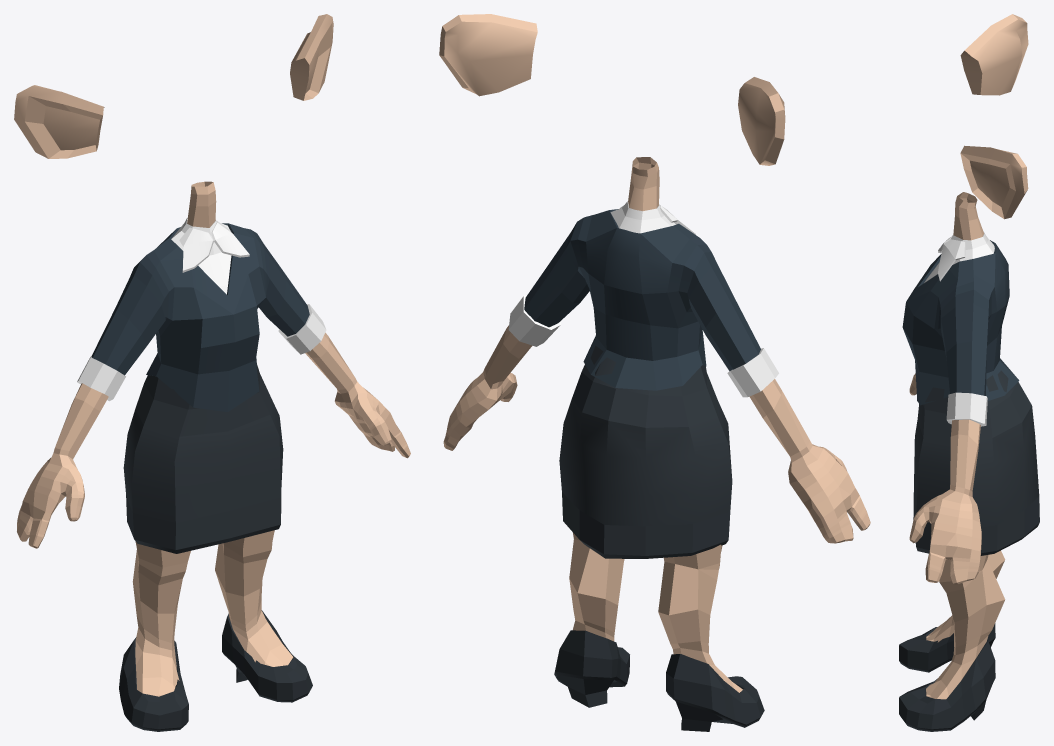
The model's file is Cuerpo_Mujer.fbx.
The picture shows the model from 3 angles, left to right: view 1: azimuth 30°, elevation 25°; view 2: azimuth 150°, elevation 25°; view 3: azimuth 270°, elevation 25°; orthographic projection. The views are drawn at different scales.
Parts seen in each view (by area): view 1: Body, Falda, Sweter, Orejas1, Zapatillas, Mangas, Cuello_Camisa, Camisa; view 2: Falda, Sweter, Body, Orejas1, Zapatillas, Mangas, Camisa; view 3: Body, Falda, Sweter, Orejas1, Zapatillas, Mangas, Camisa, Cuello_Camisa.
Boxes of the visible parts, bbox=[...] form: Body: bbox=[17, 181, 410, 696]; Falda: bbox=[123, 365, 283, 553]; Sweter: bbox=[91, 223, 309, 411]; Orejas1: bbox=[14, 14, 333, 158]; Zapatillas: bbox=[119, 610, 312, 731]; Mangas: bbox=[77, 304, 326, 401]; Cuello_Camisa: bbox=[179, 221, 249, 272]; Camisa: bbox=[171, 217, 231, 294]; Falda: bbox=[559, 345, 732, 558]; Sweter: bbox=[524, 209, 760, 390]; Body: bbox=[443, 157, 870, 692]; Orejas1: bbox=[439, 14, 785, 165]; Zapatillas: bbox=[554, 630, 764, 731]; Mangas: bbox=[508, 295, 778, 397]; Camisa: bbox=[610, 201, 675, 233]; Body: bbox=[909, 192, 1005, 699]; Falda: bbox=[913, 370, 1039, 555]; Sweter: bbox=[902, 240, 1019, 405]; Orejas1: bbox=[960, 14, 1028, 219]; Zapatillas: bbox=[899, 623, 995, 731]; Mangas: bbox=[946, 392, 987, 426]; Camisa: bbox=[924, 231, 994, 282]; Cuello_Camisa: bbox=[938, 236, 965, 281].
Bounding box in the file's own units: 3.92 × 6.18 × 1.3.
